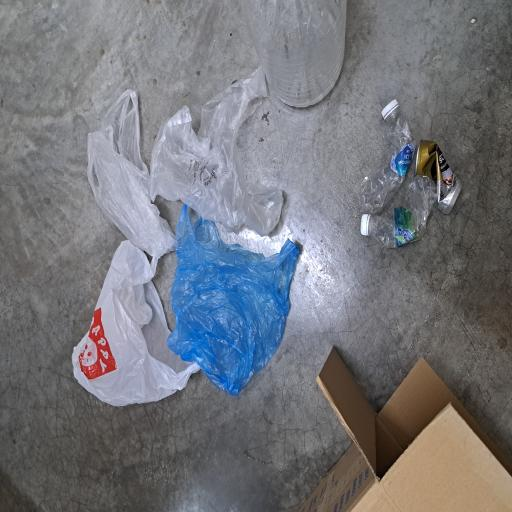cardboard: (0, 377, 124, 512)
plastic bag: (91, 227, 210, 417), (211, 198, 324, 392), (77, 99, 200, 269), (190, 114, 326, 232)
plastic bottle: (303, 316, 384, 466), (233, 474, 296, 512)
plastic bottle cap: (208, 473, 225, 497), (292, 504, 309, 512)
